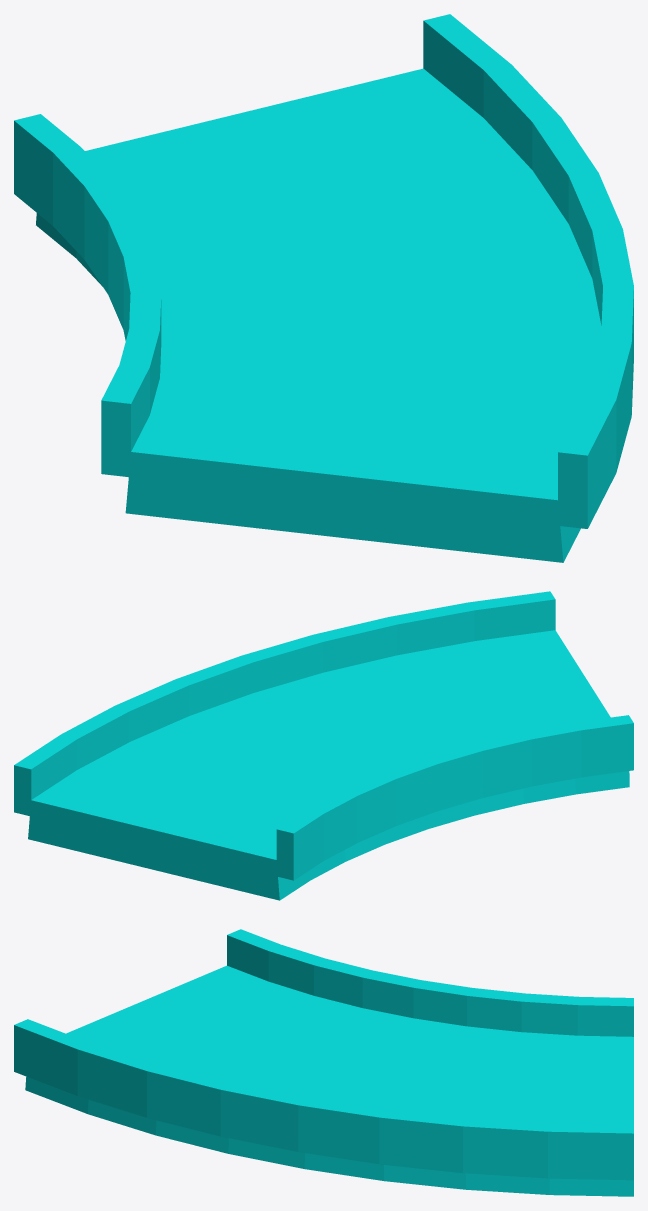
The model's file is SM_Env_Road_Highway_Corner_02_Collision.fbx.
3 views of the same model, one above another, from view 1: azimuth 30°, elevation 25°; view 2: azimuth 150°, elevation 25°; view 3: azimuth 270°, elevation 25° (orthographic). The views are drawn at different scales.
Visible parts, largest first — view 1: SM_Env_Road_Highway_Corner_02_Collision; view 2: SM_Env_Road_Highway_Corner_02_Collision; view 3: SM_Env_Road_Highway_Corner_02_Collision.
Part boxes in pixels (left/top/right/bottom): SM_Env_Road_Highway_Corner_02_Collision: left=14, top=14, right=633, bottom=562; SM_Env_Road_Highway_Corner_02_Collision: left=14, top=591, right=633, bottom=900; SM_Env_Road_Highway_Corner_02_Collision: left=14, top=929, right=633, bottom=1196.
Size of the model in its own units: 1719 by 275 by 2204.
